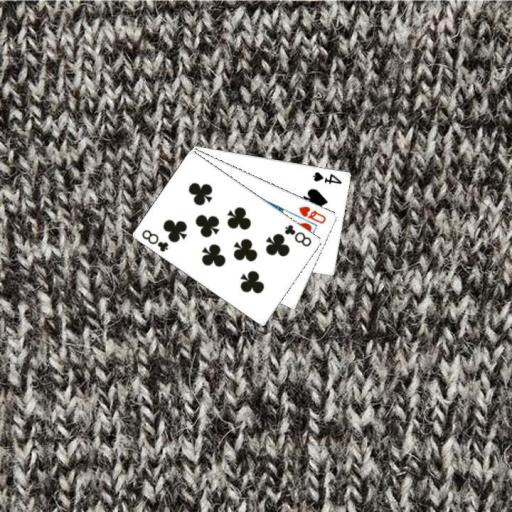4S: (310, 168, 344, 185)
8C: (281, 221, 313, 248), (139, 226, 170, 253)
QH: (296, 203, 328, 226)
